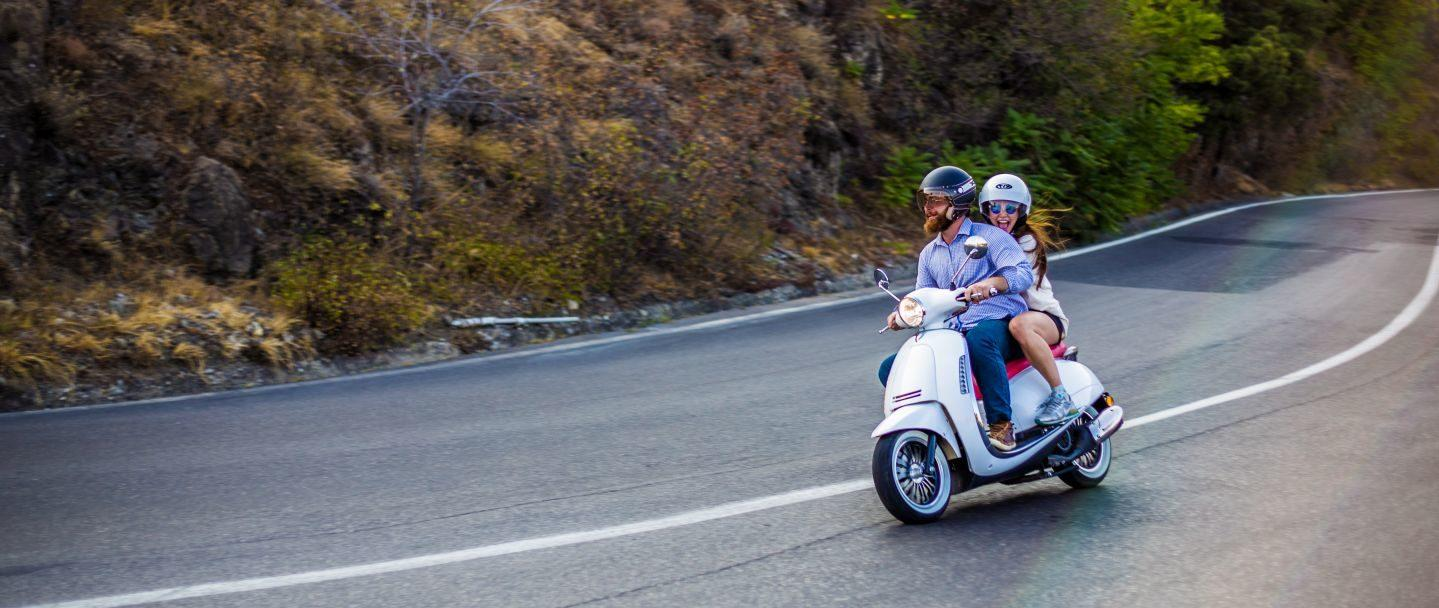motorbike: (870, 237, 1127, 526)
